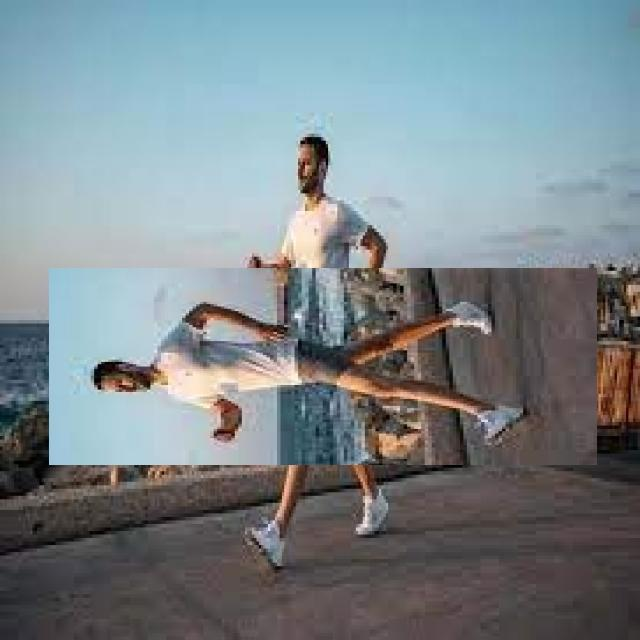NotFall: (14, 284, 553, 456)
